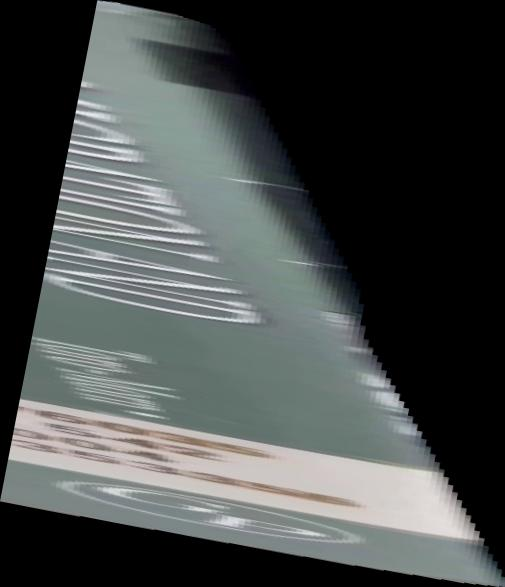book: (1, 1, 505, 587)
